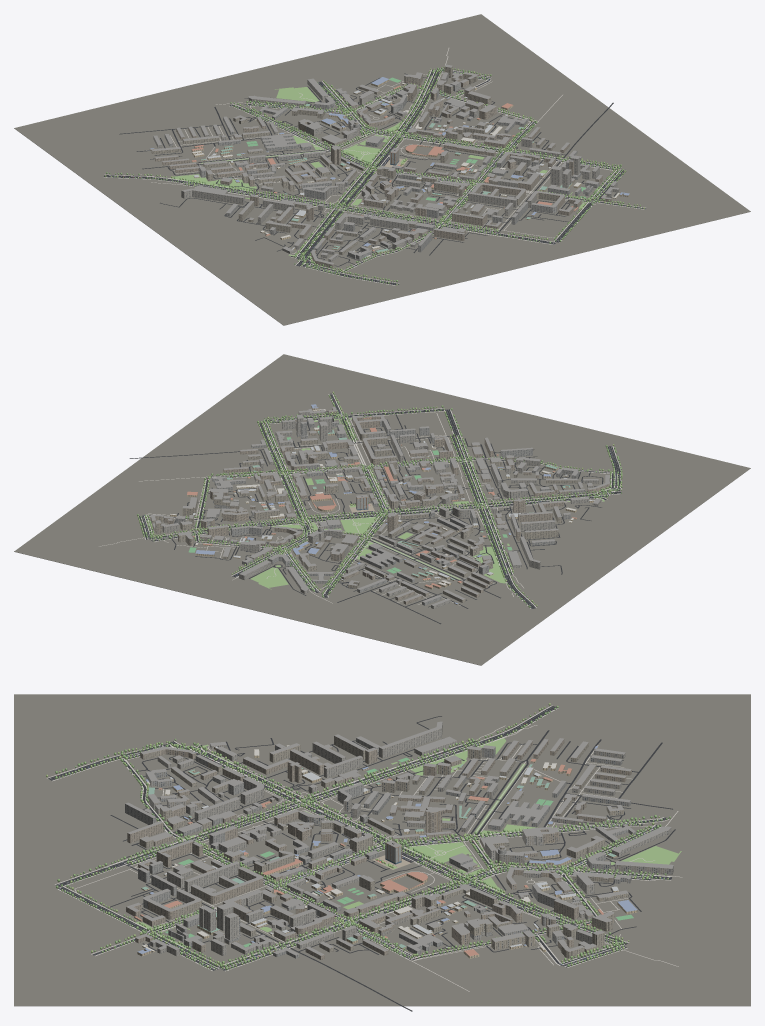
File: tsh-tower-finished.glb
3 views of the same model, one above another, from view 1: azimuth 30°, elevation 25°; view 2: azimuth 150°, elevation 25°; view 3: azimuth 270°, elevation 25° (orthographic). The views are drawn at different scales.
Size of the model in its own units: 2037 by 79.7 by 2000.
46 materials, 12 textured.
